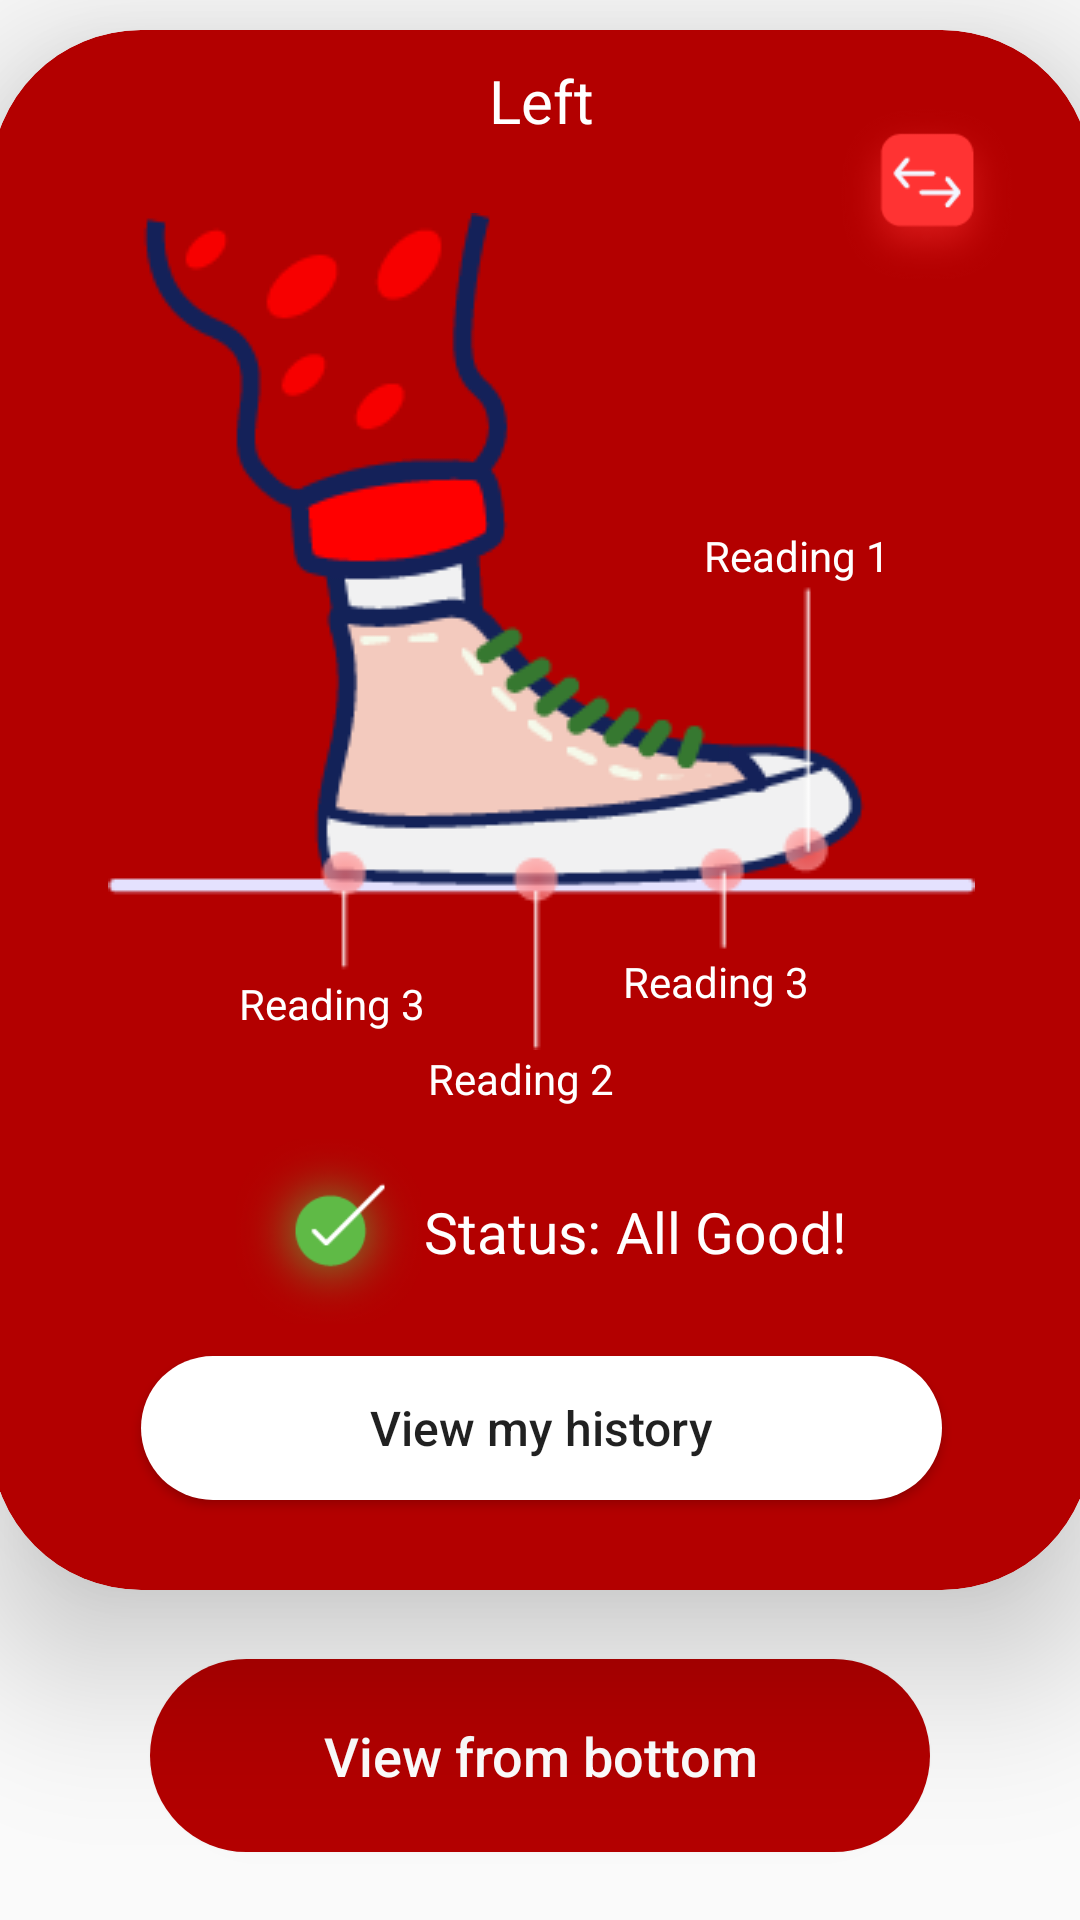

Where to tap for icons on this 1080px×1920px app screen, as point (x, y):
swap: point (927, 184)
